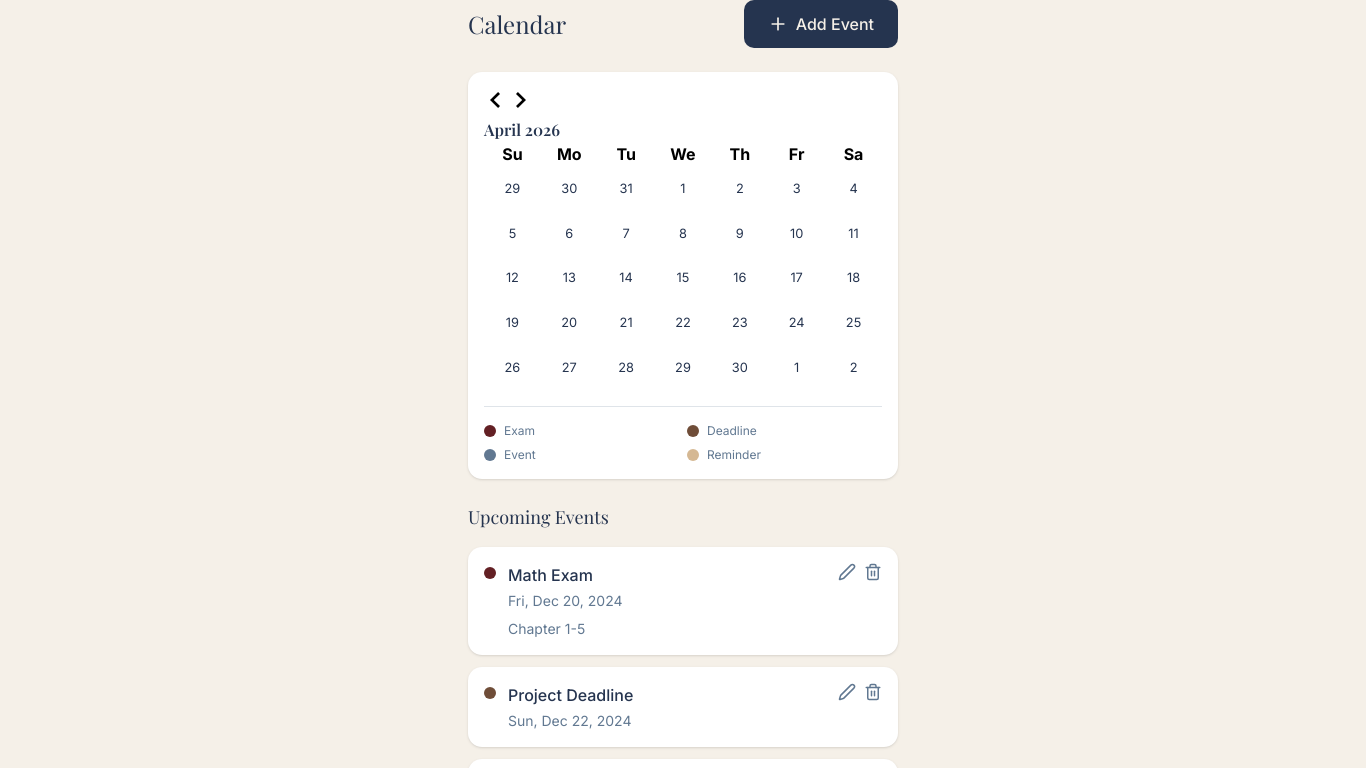
it: 25. Test calendar module › 25.2 Test event editing › should close modal when cancel is clicked during edit
// Open edit modal
Click the button named "edit event" in the row of "Math Exam": click(847, 572) [838, 563, 856, 581]
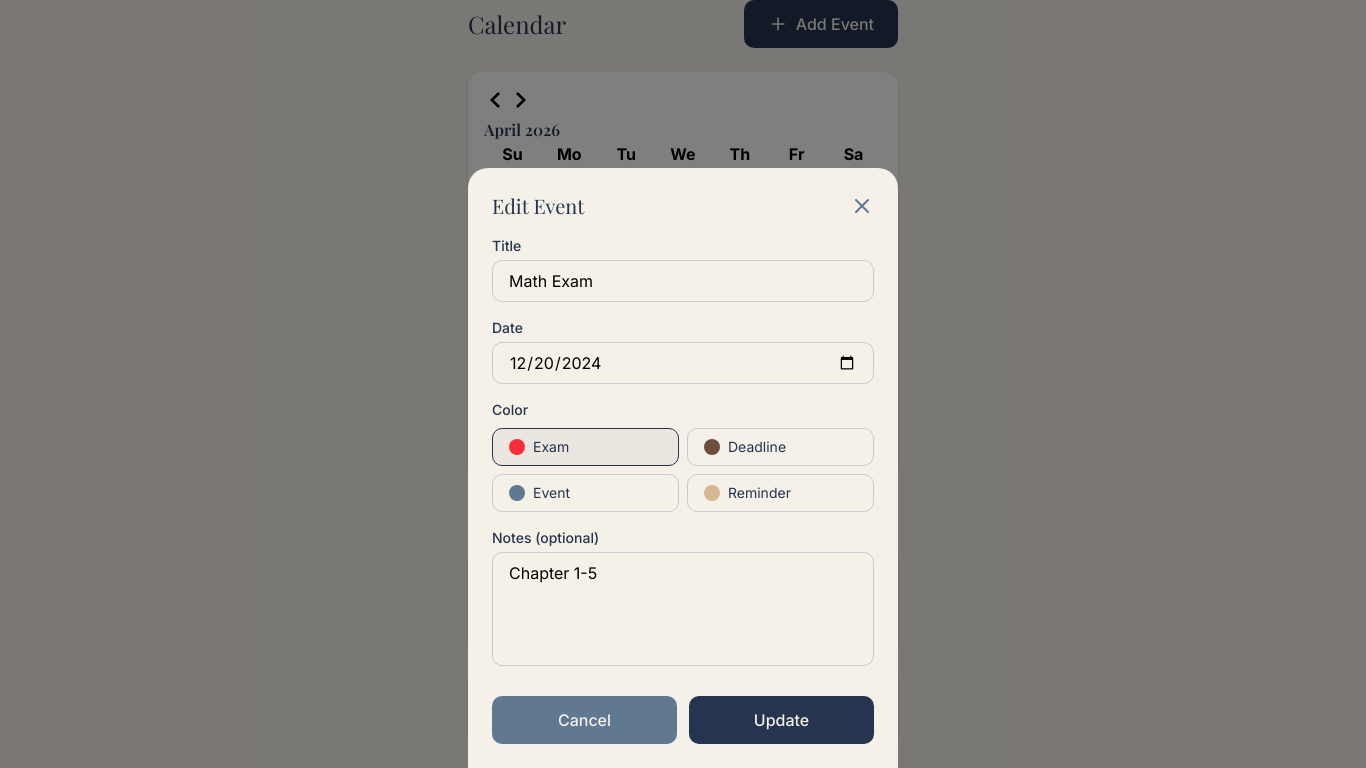
Result: the heading "Edit Event" is shown at [492, 192, 584, 220]
// Click cancel
Click the button "Cancel": click(584, 720) [492, 696, 677, 744]
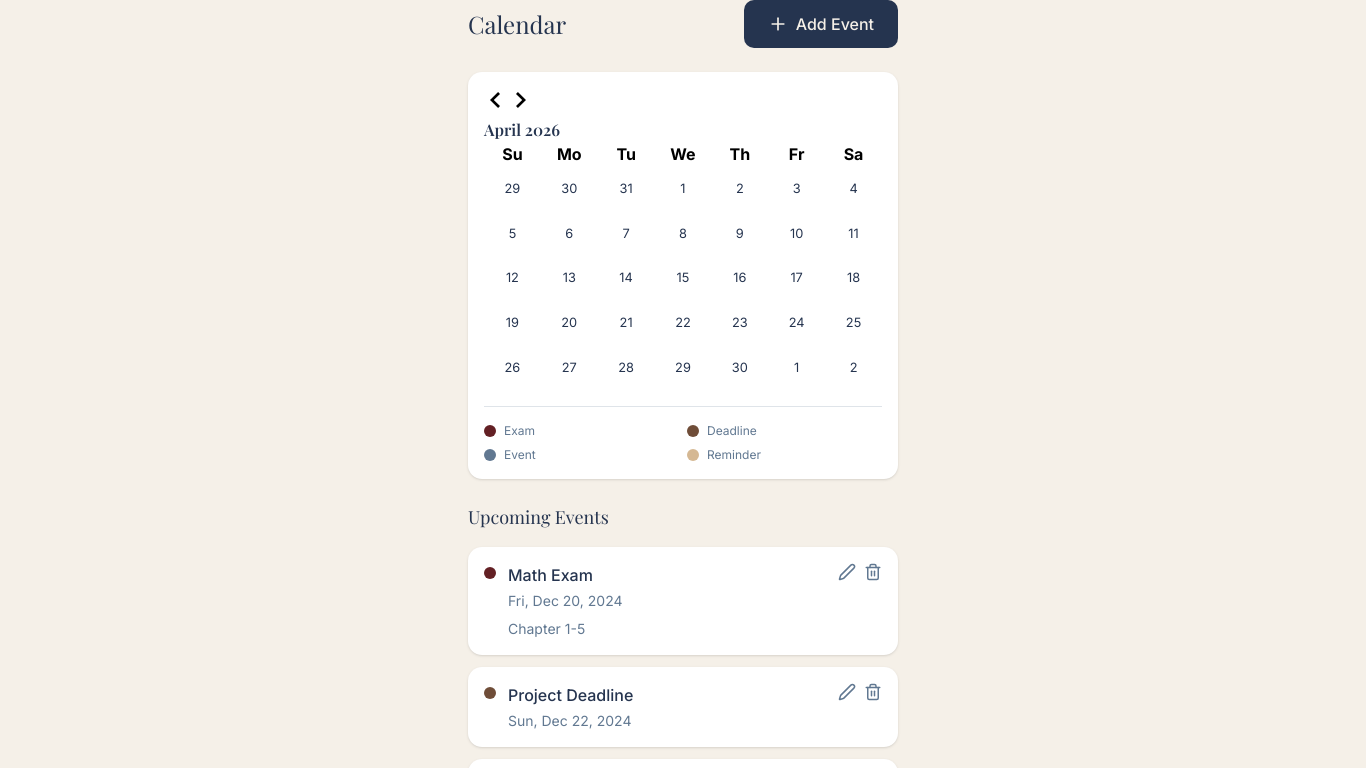
Result: the heading "Edit Event" is gone
